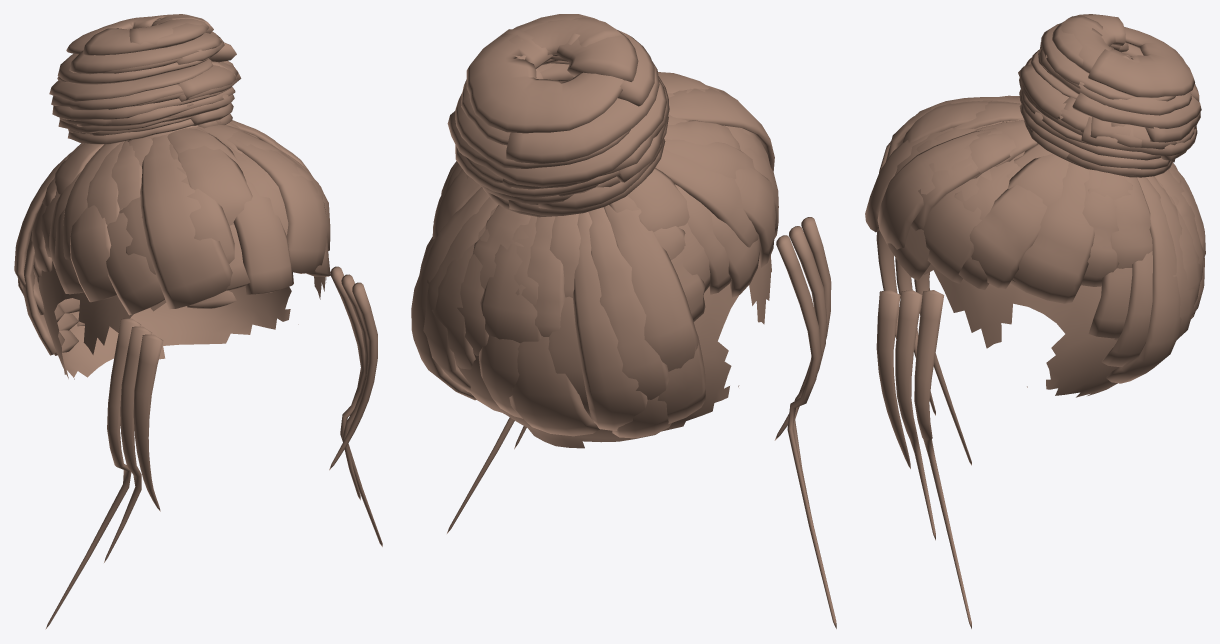
The model's file is hair_anime_female_messy_bun.glb.
3 renders of one model, left to right at view 1: azimuth 30°, elevation 25°; view 2: azimuth 150°, elevation 25°; view 3: azimuth 270°, elevation 25°, orthographic. The views are drawn at different scales.
Parts seen in each view (by area): view 1: AF_Hair_MessyBun.001; view 2: AF_Hair_MessyBun.001; view 3: AF_Hair_MessyBun.001.
Boxes of the visible parts, bbox=[...] form: AF_Hair_MessyBun.001: bbox=[14, 14, 382, 629]; AF_Hair_MessyBun.001: bbox=[411, 14, 836, 628]; AF_Hair_MessyBun.001: bbox=[865, 14, 1205, 628].
Size of the model in its own units: 0.2486 by 0.3681 by 0.2187.
